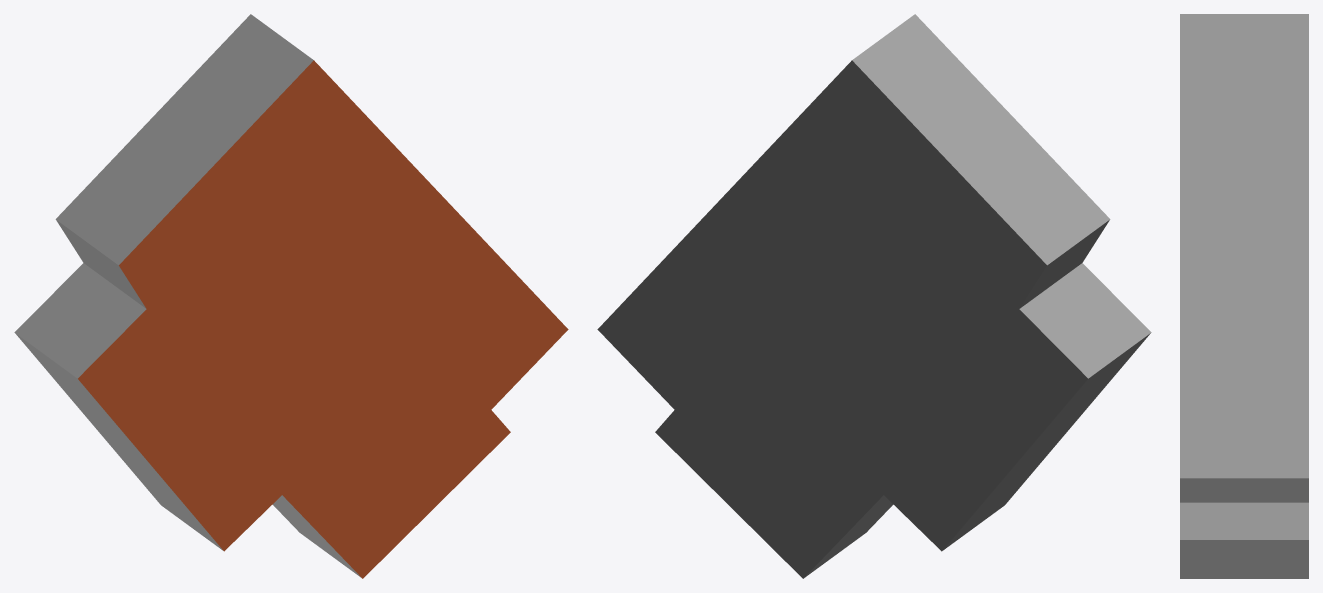
The model's file is construction_1017_assumed_A_Casa_h6m.obj.
The picture shows the model from 3 angles, left to right: view 1: azimuth 30°, elevation 25°; view 2: azimuth 150°, elevation 25°; view 3: azimuth 270°, elevation 25°; orthographic projection.
Visible parts, largest first — view 1: construction_1017_assumed_A_Casa; view 2: construction_1017_assumed_A_Casa; view 3: construction_1017_assumed_A_Casa.
Part boxes in pixels (x1=…): construction_1017_assumed_A_Casa: x1=14, y1=14, x2=568, y2=578; construction_1017_assumed_A_Casa: x1=597, y1=14, x2=1151, y2=578; construction_1017_assumed_A_Casa: x1=1180, y1=14, x2=1308, y2=578.
Size of the model in its own units: 26.92 by 27.81 by 6.
